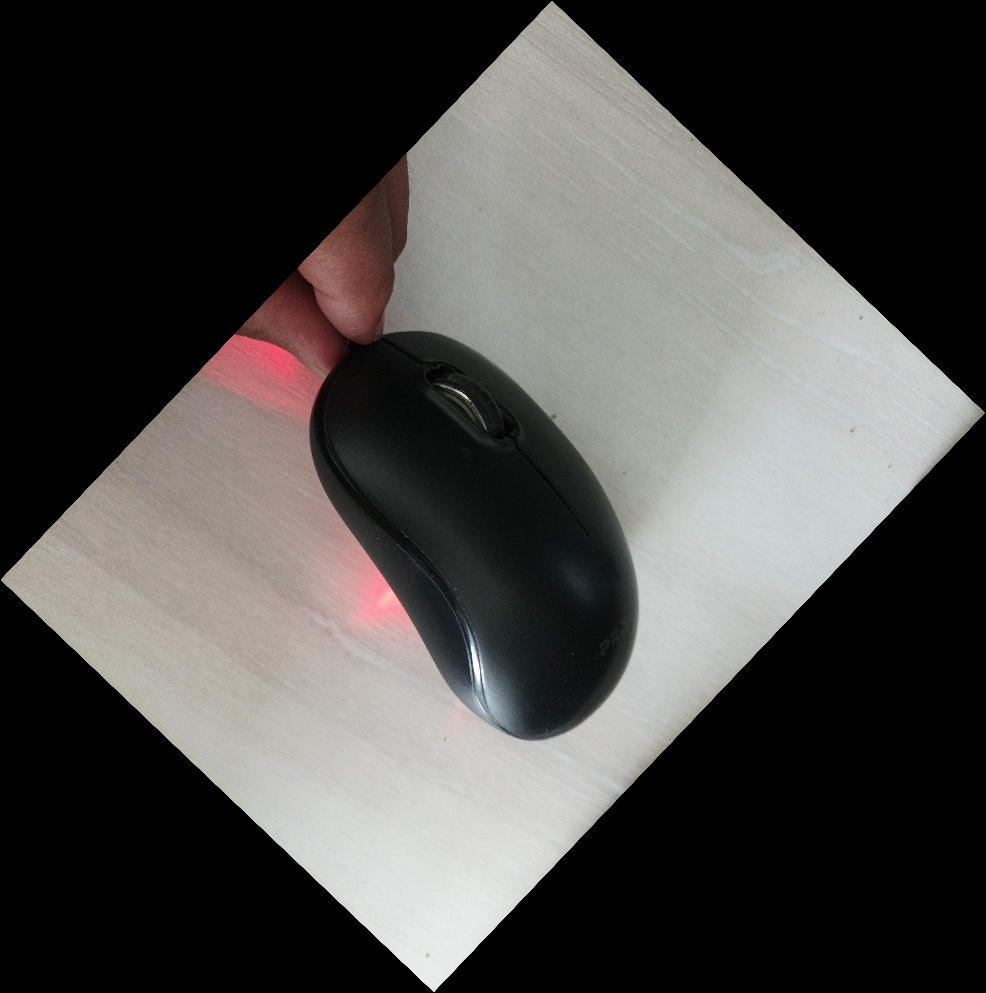mouse: (303, 325, 645, 743)
